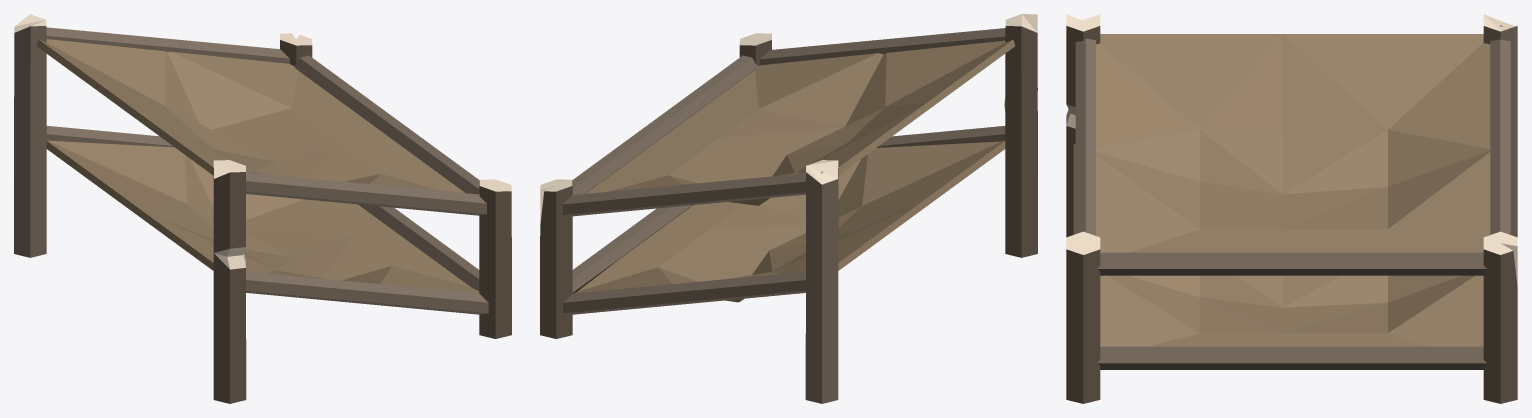
File: counter.fbx
3 renders of one model, left to right at view 1: azimuth 30°, elevation 25°; view 2: azimuth 150°, elevation 25°; view 3: azimuth 270°, elevation 25°, orthographic. The views are drawn at different scales.
Visible parts, largest first — view 1: counter; view 2: counter; view 3: counter.
Boxes of the visible parts, x1=… form: counter: x1=14, y1=14, x2=511, y2=403; counter: x1=540, y1=14, x2=1037, y2=403; counter: x1=1066, y1=14, x2=1517, y2=403.
Size of the model in its own units: 235 by 175 by 295.
